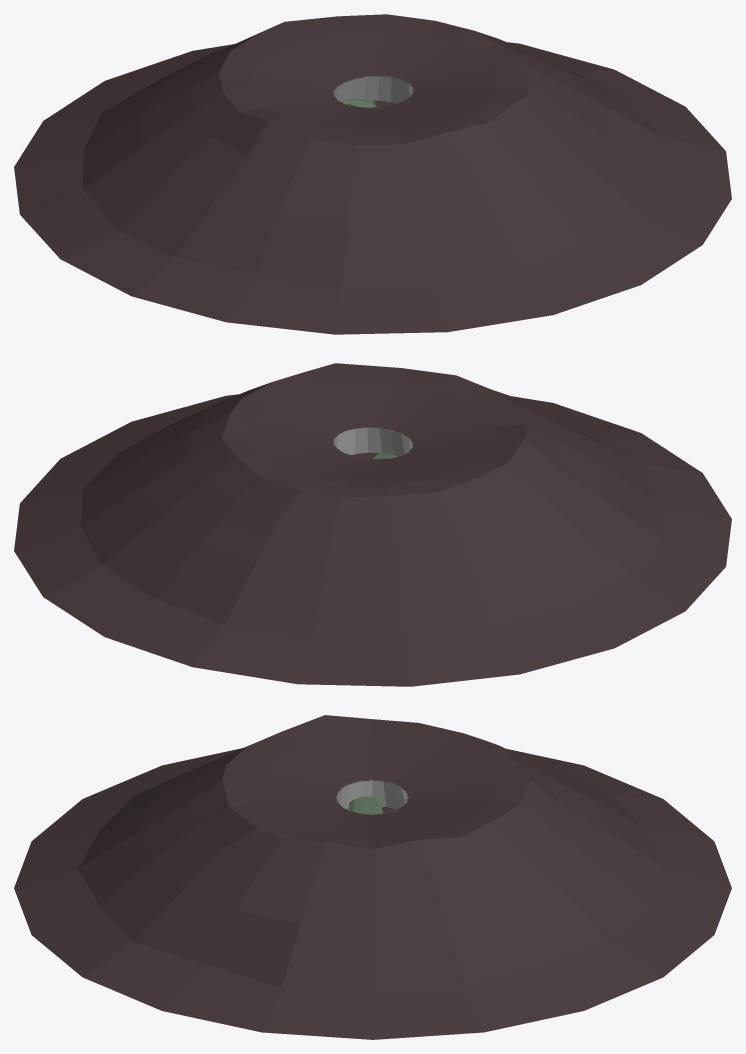
The model's file is HandFromGroundDirt_animated.fbx.
3 renders of one model, top to bottom at view 1: azimuth 30°, elevation 25°; view 2: azimuth 150°, elevation 25°; view 3: azimuth 270°, elevation 25°, orthographic.
Parts seen in each view (by area): view 1: Hand out of ground_Dirt2_d; view 2: Hand out of ground_Dirt2_d; view 3: Hand out of ground_Dirt2_d, Hand out of ground_Dirt_h.
Part boxes in pixels (x1,y1,x2,y2): Hand out of ground_Dirt2_d: (14,14,731,334); Hand out of ground_Dirt2_d: (14,363,731,686); Hand out of ground_Dirt2_d: (14,715,731,1039); Hand out of ground_Dirt_h: (348,796,382,814).
Bounding box in the file's own units: 299 × 50.85 × 299.
